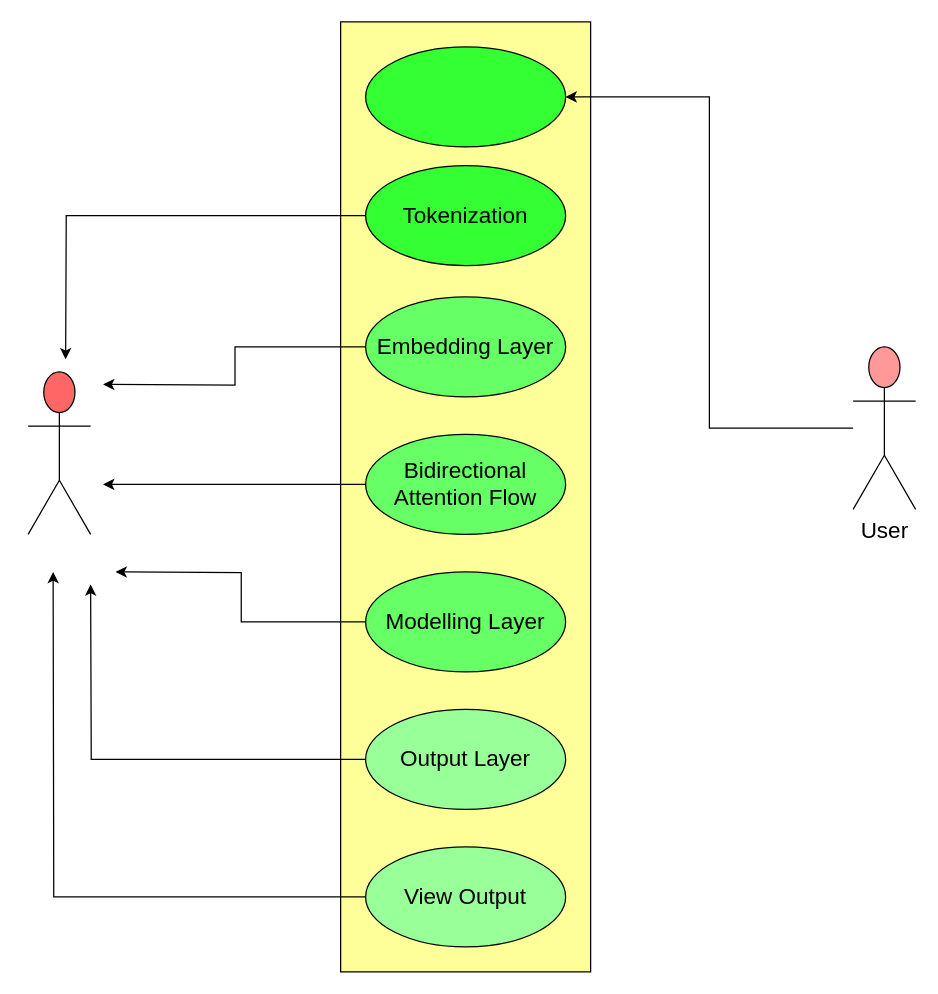
Image size: 938x994. Some labels were removed from this diagram. Each missing label, with the centre of its shape:
System: the point at 59,452
User Input: the point at 465,96
